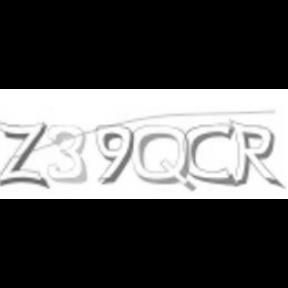3: (47, 122, 89, 184)
9: (94, 121, 134, 185)
C: (183, 122, 236, 184)
Q: (132, 125, 196, 192)
R: (230, 118, 284, 188)
Z: (0, 121, 50, 189)
